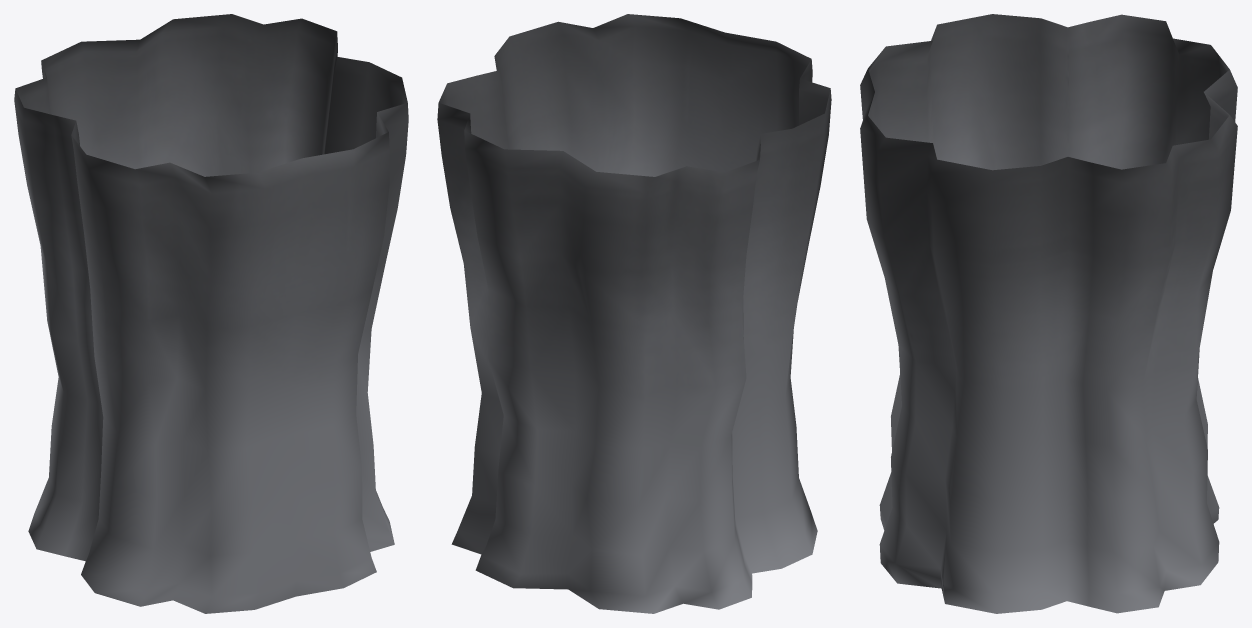
Rendered from Rock_1.fbx.
3 renders of one model, left to right at view 1: azimuth 30°, elevation 25°; view 2: azimuth 150°, elevation 25°; view 3: azimuth 270°, elevation 25°, orthographic.
Visible parts, largest first — view 1: Rock; view 2: Rock; view 3: Rock.
Part boxes in pixels (x1=…): Rock: x1=14, y1=14, x2=408, y2=613; Rock: x1=437, y1=14, x2=831, y2=613; Rock: x1=860, y1=14, x2=1237, y2=613.
Bounding box in the file's own units: 65.63 × 87.97 × 67.05.
